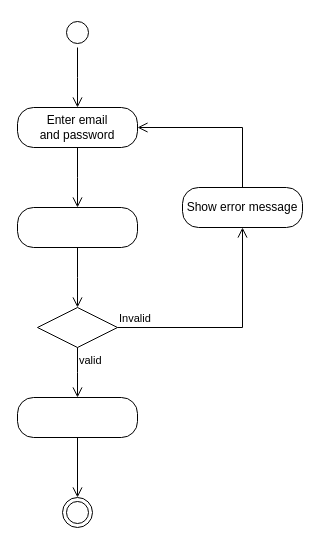
Image size: 320x545. Some labels were removed from this diagram. Here are the shapes that lost their labels. From the top down, the centre of each, then its label:
(77,227): Verify the informations
(77,417): log in successfully
